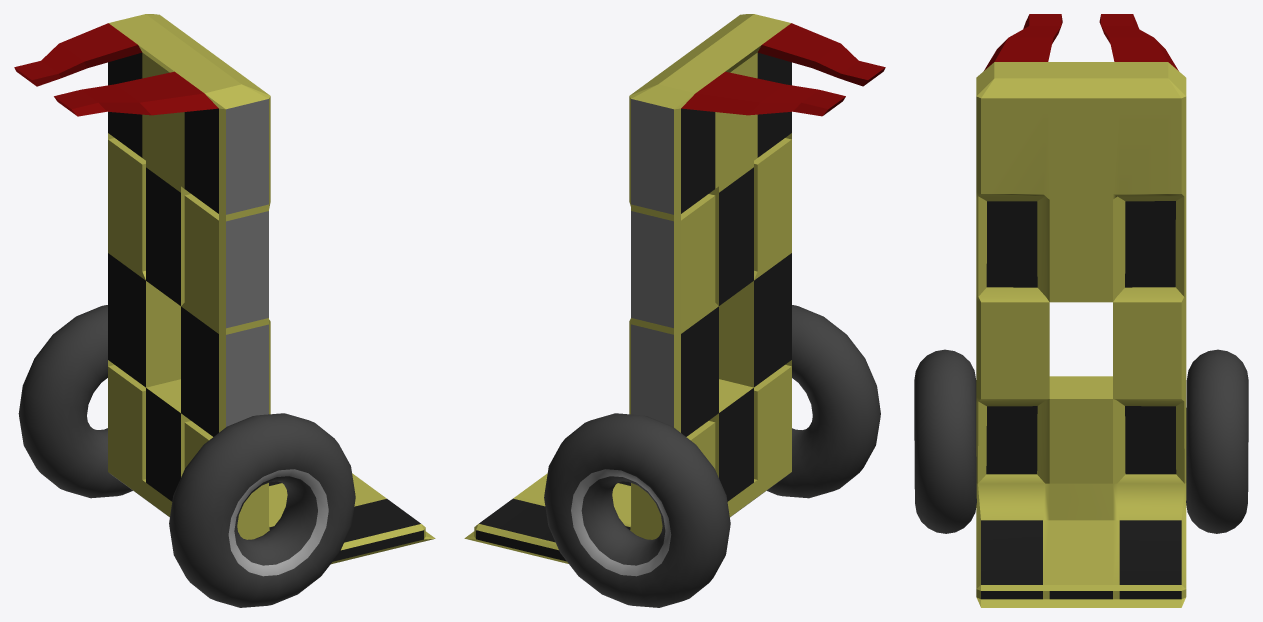
File: MovingCart.fbx
3 views of the same model, side by side, from view 1: azimuth 30°, elevation 25°; view 2: azimuth 150°, elevation 25°; view 3: azimuth 270°, elevation 25° (orthographic). The views are drawn at different scales.
Parts seen in each view (by area): view 1: pCube1, pTorus2, pTorus1; view 2: pCube1, pTorus1, pTorus2; view 3: pCube1, pTorus1, pTorus2.
Boxes of the visible parts, bbox=[...] form: pCube1: bbox=[14, 14, 435, 564]; pTorus2: bbox=[169, 413, 355, 607]; pTorus1: bbox=[18, 305, 132, 498]; pCube1: bbox=[464, 14, 885, 563]; pTorus1: bbox=[544, 413, 730, 607]; pTorus2: bbox=[767, 305, 880, 498]; pCube1: bbox=[976, 14, 1186, 607]; pTorus1: bbox=[1186, 349, 1248, 533]; pTorus2: bbox=[914, 349, 976, 533].
Bounding box in the file's own units: 2.3 × 3.24 × 2.18.
